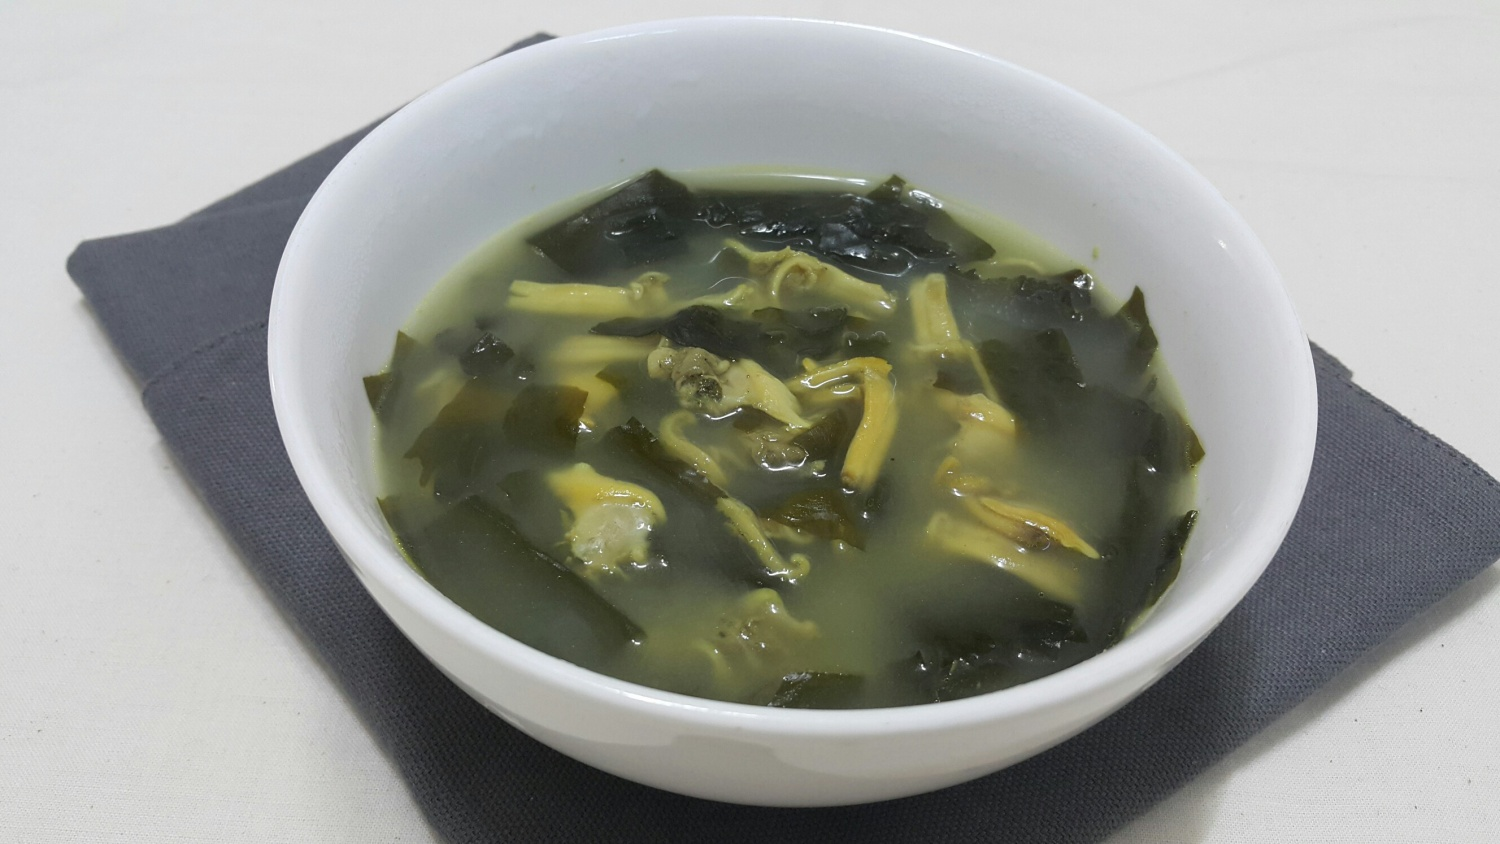miyeoggug: (294, 65, 1236, 743)
